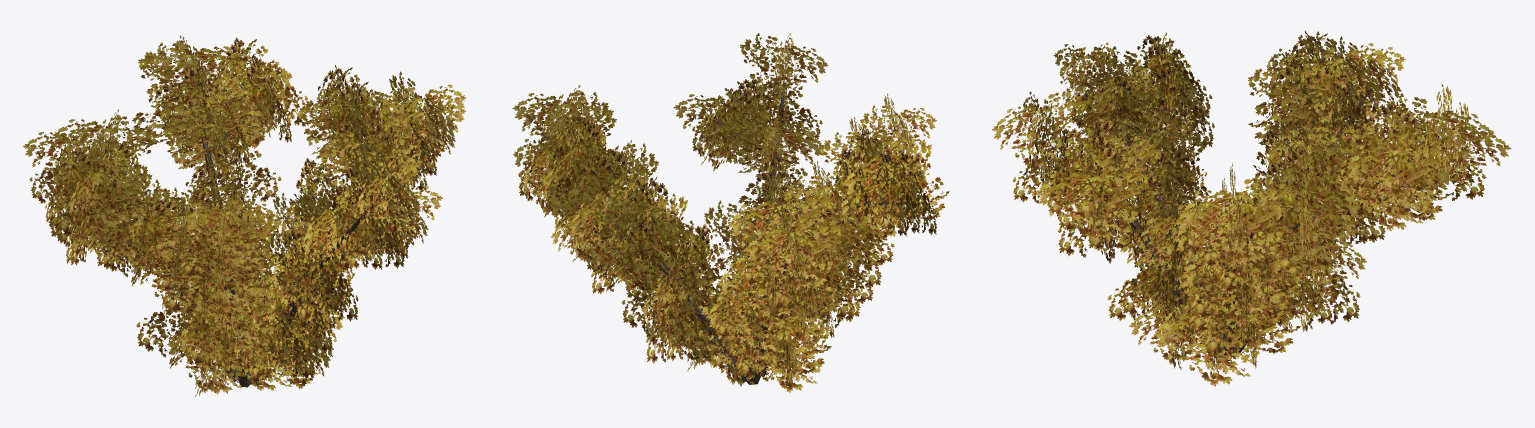
The model's file is bush_3d_01_yellow_lod0.glb.
The picture shows the model from 3 angles, left to right: view 1: azimuth 30°, elevation 25°; view 2: azimuth 150°, elevation 25°; view 3: azimuth 270°, elevation 25°; orthographic projection. The views are drawn at different scales.
Visible parts, largest first — view 1: foliage_cards, wood_geometry; view 2: foliage_cards, wood_geometry; view 3: foliage_cards, wood_geometry.
Part boxes in pixels (x1,y1,x2,y2): foliage_cards: (23,35,466,396); wood_geometry: (74,72,427,387); foliage_cards: (512,33,949,392); wood_geometry: (541,82,894,384); foliage_cards: (992,30,1510,386); wood_geometry: (1052,85,1439,360).
Size of the model in its own units: 2.02 by 1.29 by 2.12.
2 materials, 2 textured.
